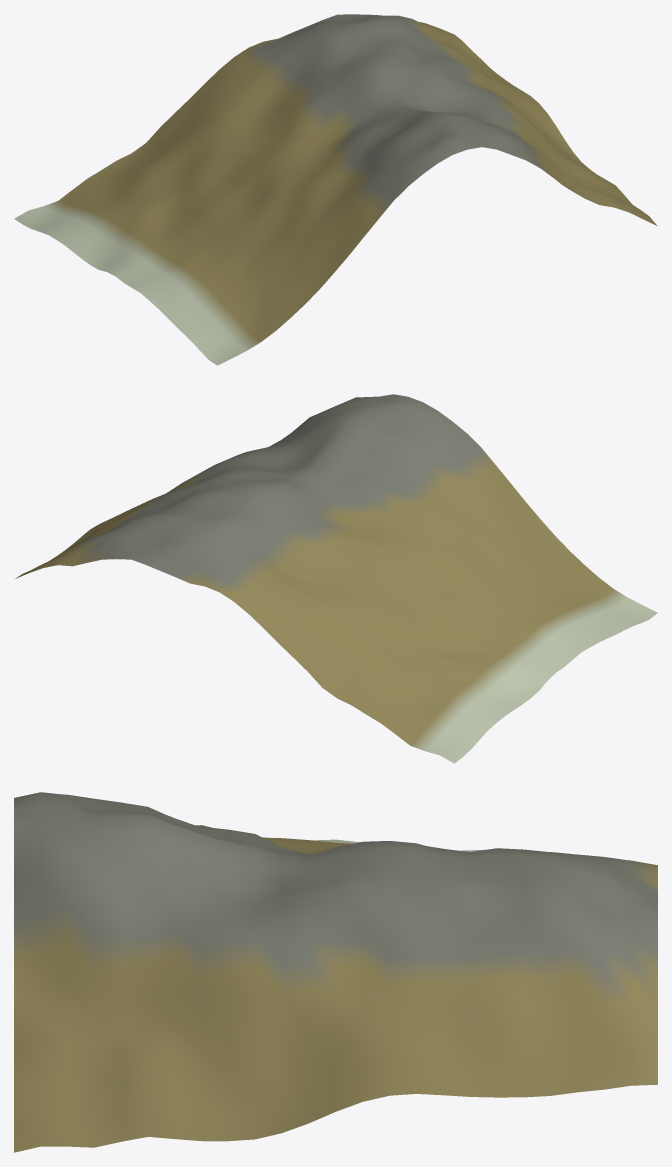
3 renders of one model, top to bottom at view 1: azimuth 30°, elevation 25°; view 2: azimuth 150°, elevation 25°; view 3: azimuth 270°, elevation 25°, orthographic. The views are drawn at different scales.
Parts seen in each view (by area): view 1: world-ground/180-96; view 2: world-ground/180-96; view 3: world-ground/180-96.
Boxes of the visible parts, x1,y1,x2,y2 form: world-ground/180-96: (14,14,657,365); world-ground/180-96: (15,394,657,763); world-ground/180-96: (14,792,657,1152).
Size of the model in its own units: 37.5 by 13.06 by 30.
